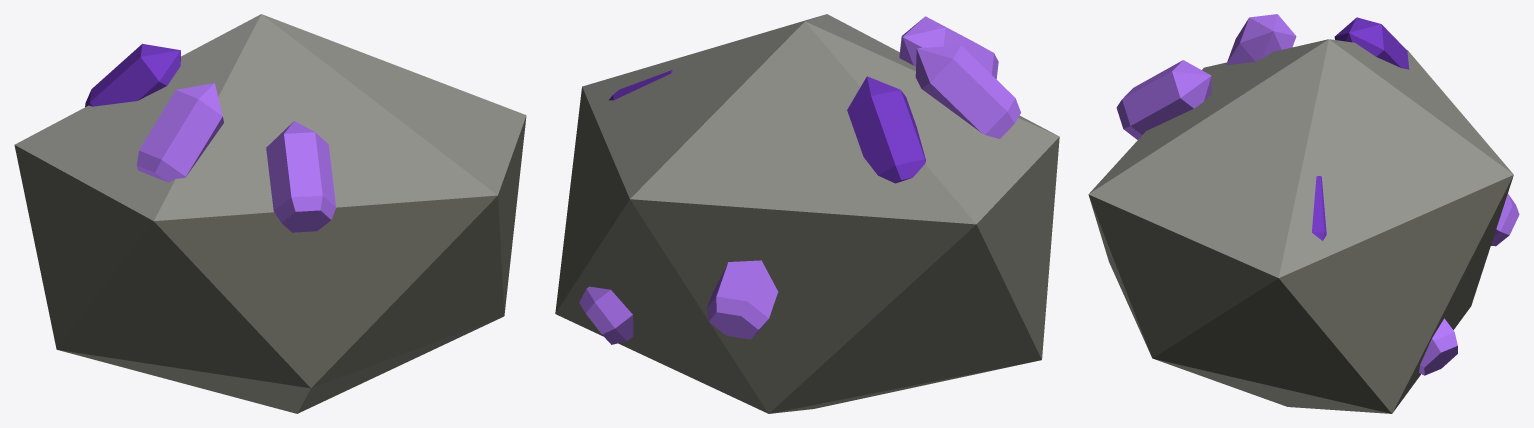
File: AmethystOre.fbx
The picture shows the model from 3 angles, left to right: view 1: azimuth 30°, elevation 25°; view 2: azimuth 150°, elevation 25°; view 3: azimuth 270°, elevation 25°; orthographic projection. The views are drawn at different scales.
Visible parts, largest first — view 1: AmethystOre; view 2: AmethystOre; view 3: AmethystOre.
Part boxes in pixels (x1,y1,x2,y2): AmethystOre: [14, 14, 526, 413]; AmethystOre: [555, 14, 1059, 413]; AmethystOre: [1088, 14, 1519, 413].
Bounding box in the file's own units: 3.65 × 2.98 × 3.22.
Materials: 1 (1 with a texture image).
